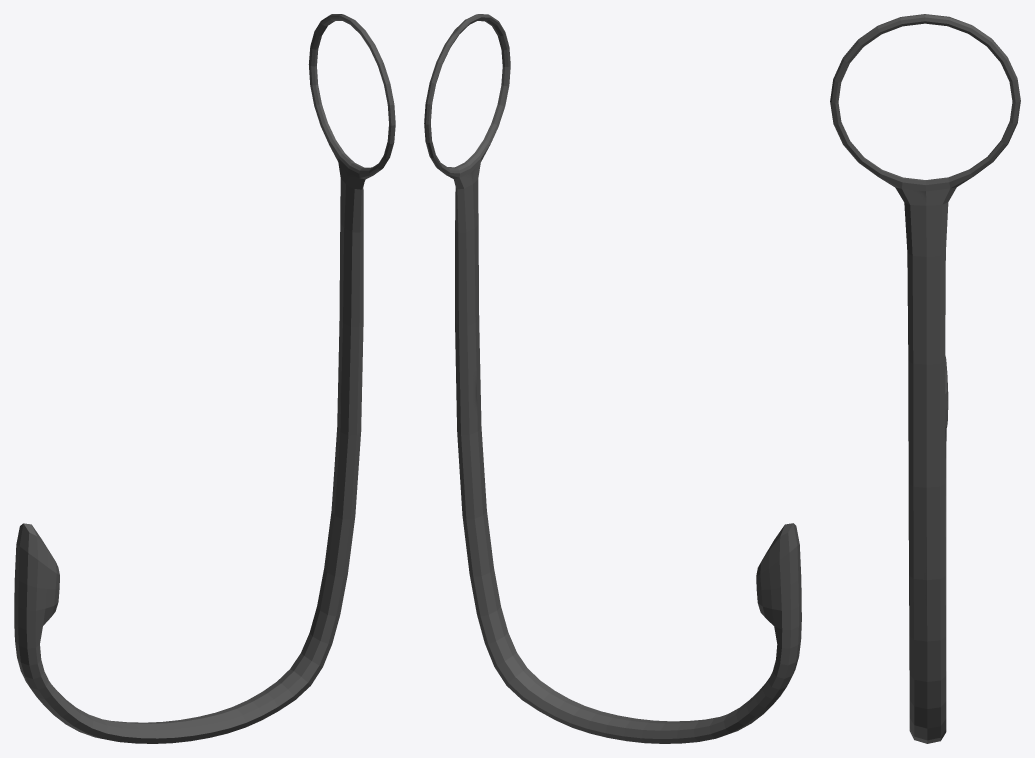
Rendered from Hook.fbx.
3 views of the same model, side by side, from view 1: azimuth 30°, elevation 25°; view 2: azimuth 150°, elevation 25°; view 3: azimuth 270°, elevation 25° (orthographic). The views are drawn at different scales.
Parts seen in each view (by area): view 1: Circle; view 2: Circle; view 3: Circle.
Boxes of the visible parts, x1=… form: Circle: x1=14, y1=14, x2=395, y2=743; Circle: x1=424, y1=14, x2=801, y2=743; Circle: x1=830, y1=14, x2=1020, y2=743.
Bounding box in the file's own units: 17.53 × 33.43 × 7.39.
1 material, 1 textured.
